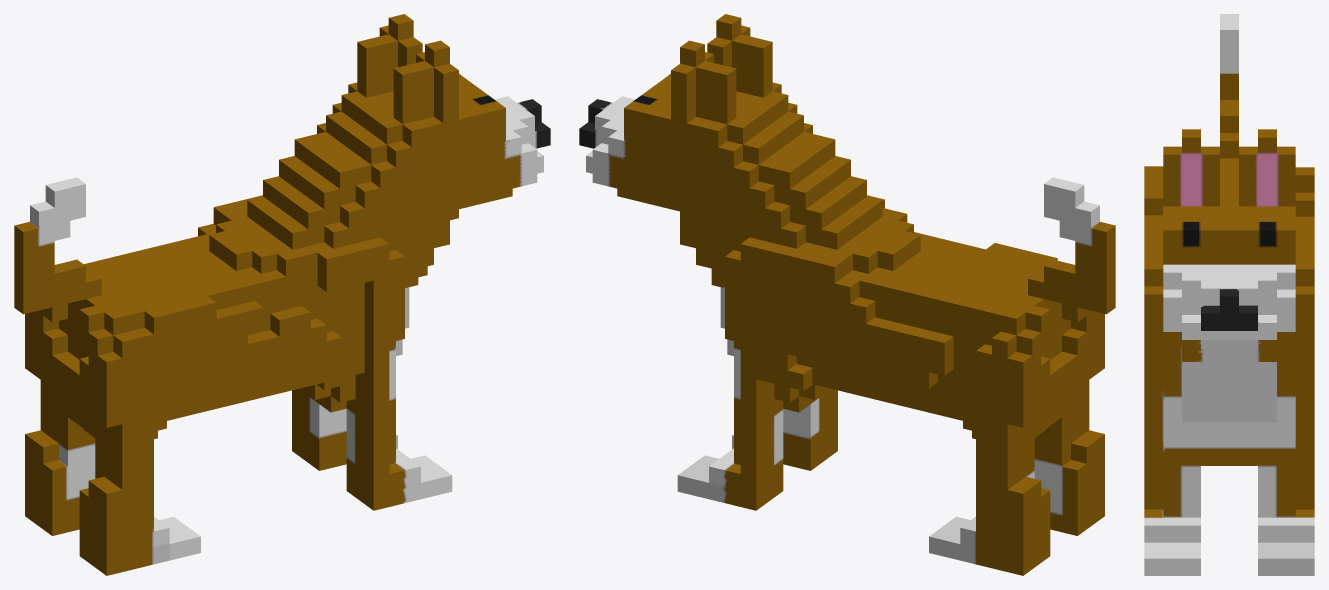
File: tsun.glb
3 views of the same model, side by side, from view 1: azimuth 30°, elevation 25°; view 2: azimuth 150°, elevation 25°; view 3: azimuth 270°, elevation 25° (orthographic). The views are drawn at different scales.
Visible parts, largest first — view 1: tsun; view 2: tsun; view 3: tsun.
Boxes of the visible parts, x1=… form: tsun: x1=14, y1=14, x2=550, y2=575; tsun: x1=579, y1=14, x2=1115, y2=575; tsun: x1=1144, y1=14, x2=1314, y2=575.
Size of the model in its own units: 0.66 by 0.52 by 0.18.
1 material, 1 textured.
